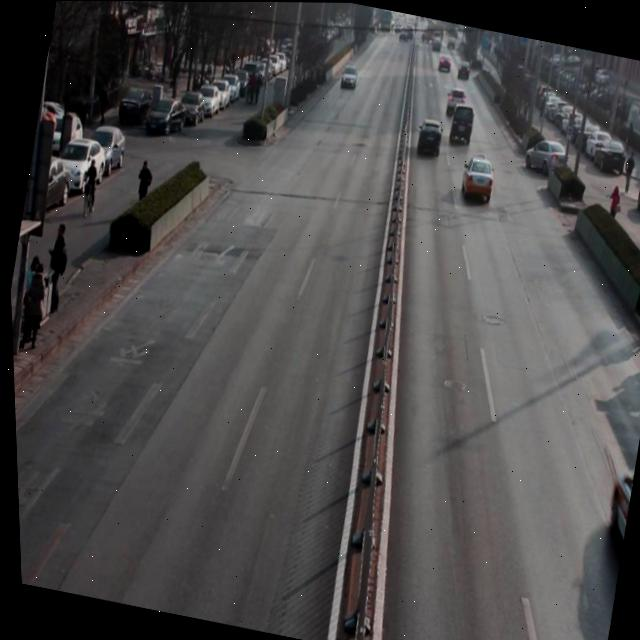car: (454, 153, 500, 210), (411, 117, 448, 160), (338, 59, 361, 92), (443, 85, 467, 116)
truck: (446, 99, 478, 148)
